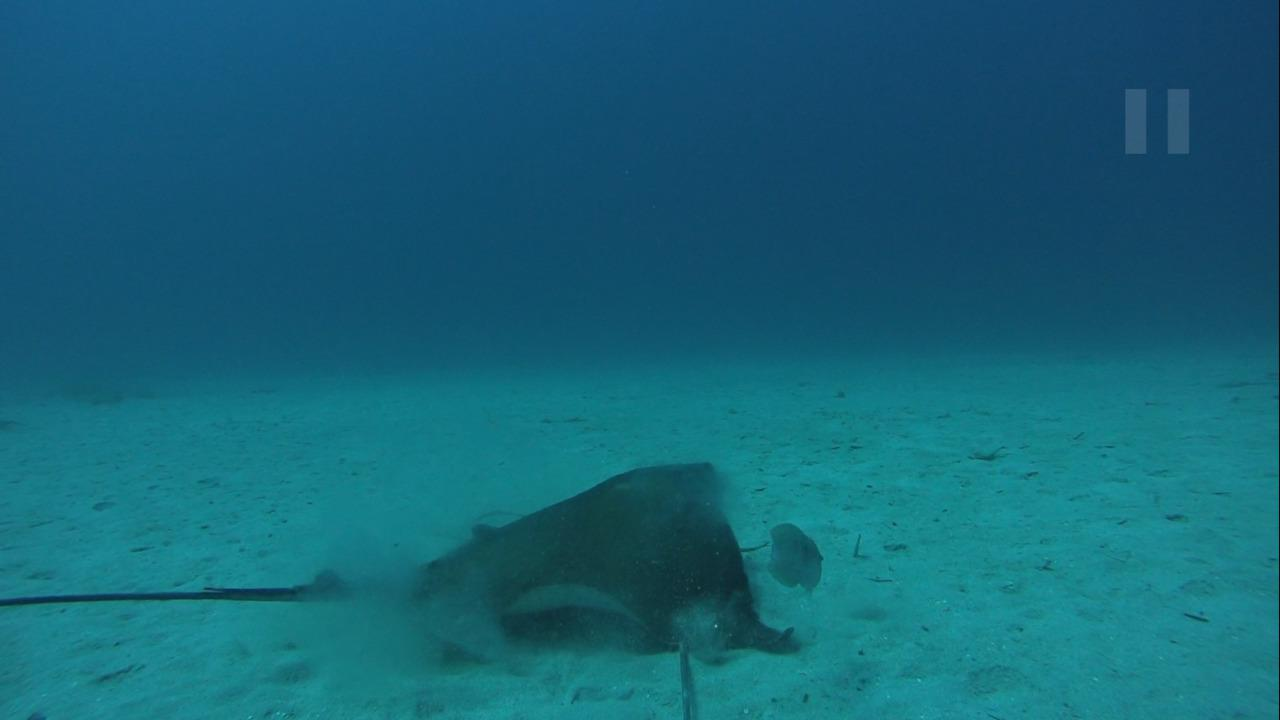raor: (760, 512, 826, 595)
